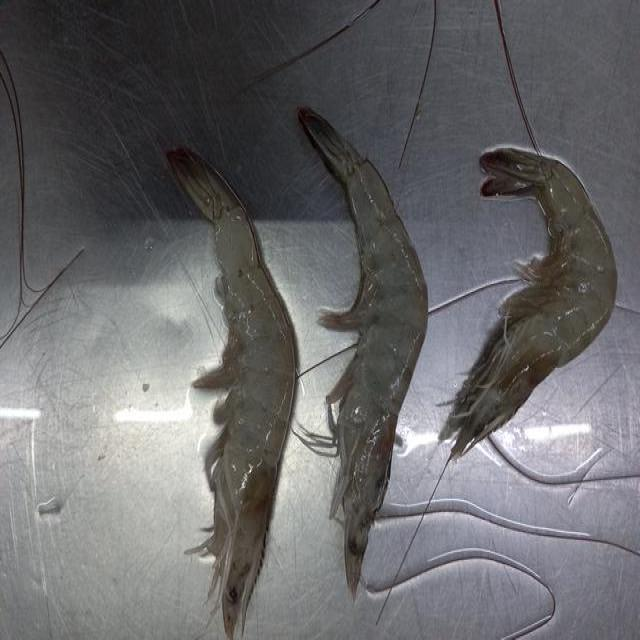shrimp: (299, 109, 428, 597), (168, 149, 296, 638), (440, 149, 618, 460)
